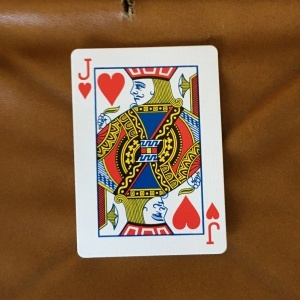card: (70, 44, 229, 256)
